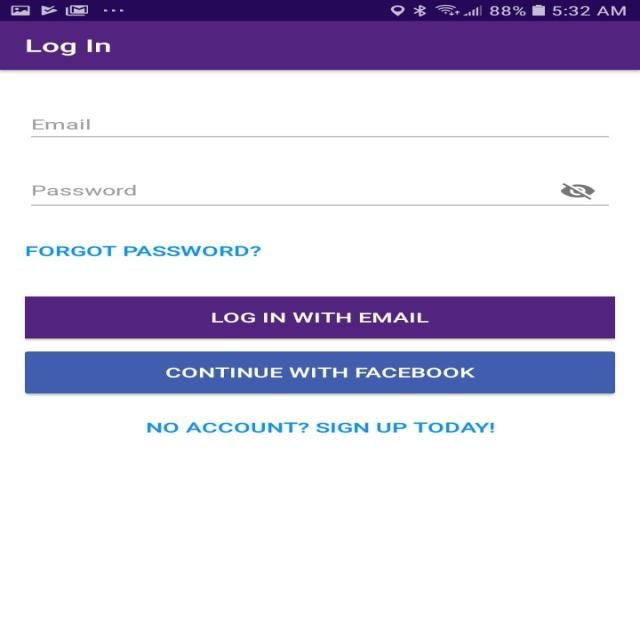EditText: (31, 183, 609, 206), (31, 119, 609, 138)
Icon: (560, 183, 595, 200)
Text: (146, 422, 494, 432), (27, 245, 262, 257), (26, 39, 111, 56), (33, 185, 136, 195), (32, 118, 90, 130)
TextButton: (24, 352, 614, 394), (24, 296, 614, 338)
